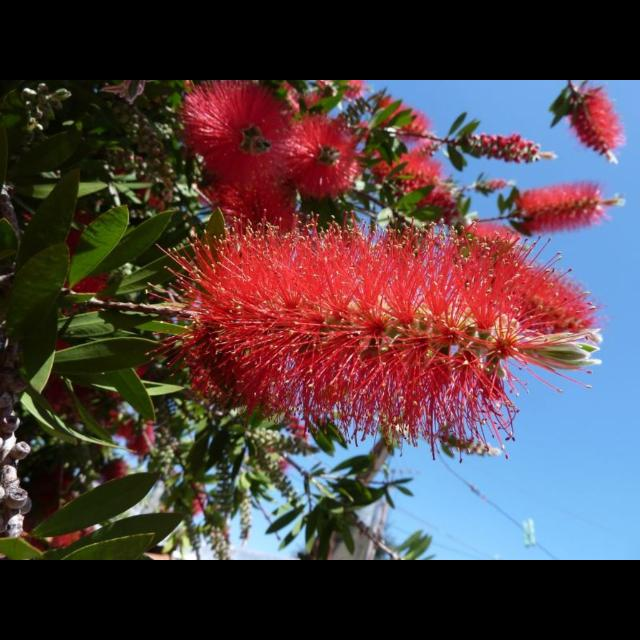Flower: (144, 219, 606, 463), (174, 80, 366, 230), (66, 230, 160, 458), (364, 95, 464, 223), (24, 464, 94, 556), (516, 182, 618, 234), (566, 88, 630, 156), (100, 455, 130, 481)
